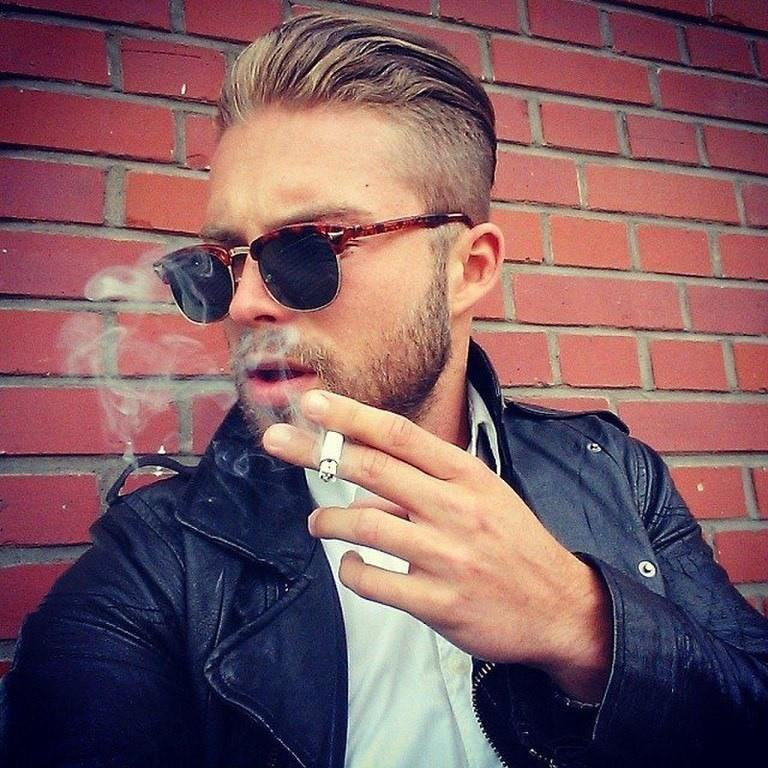cigarette: (317, 430, 345, 483)
